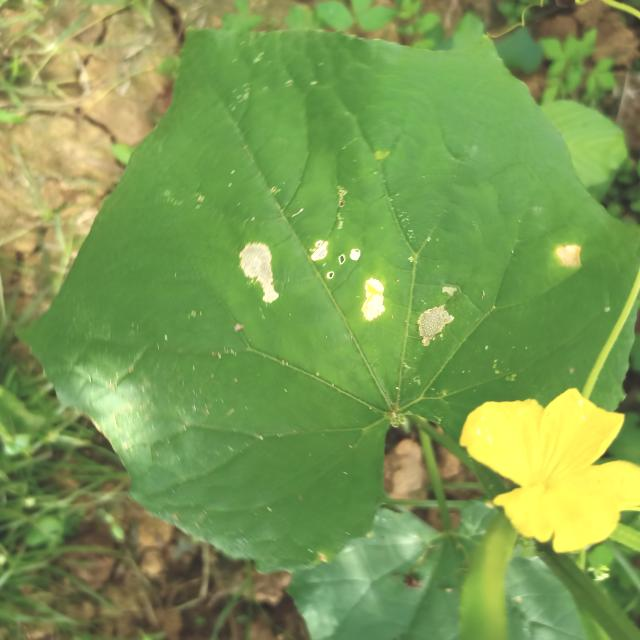disease_cucumber: (235, 236, 457, 346), (551, 242, 584, 270)
